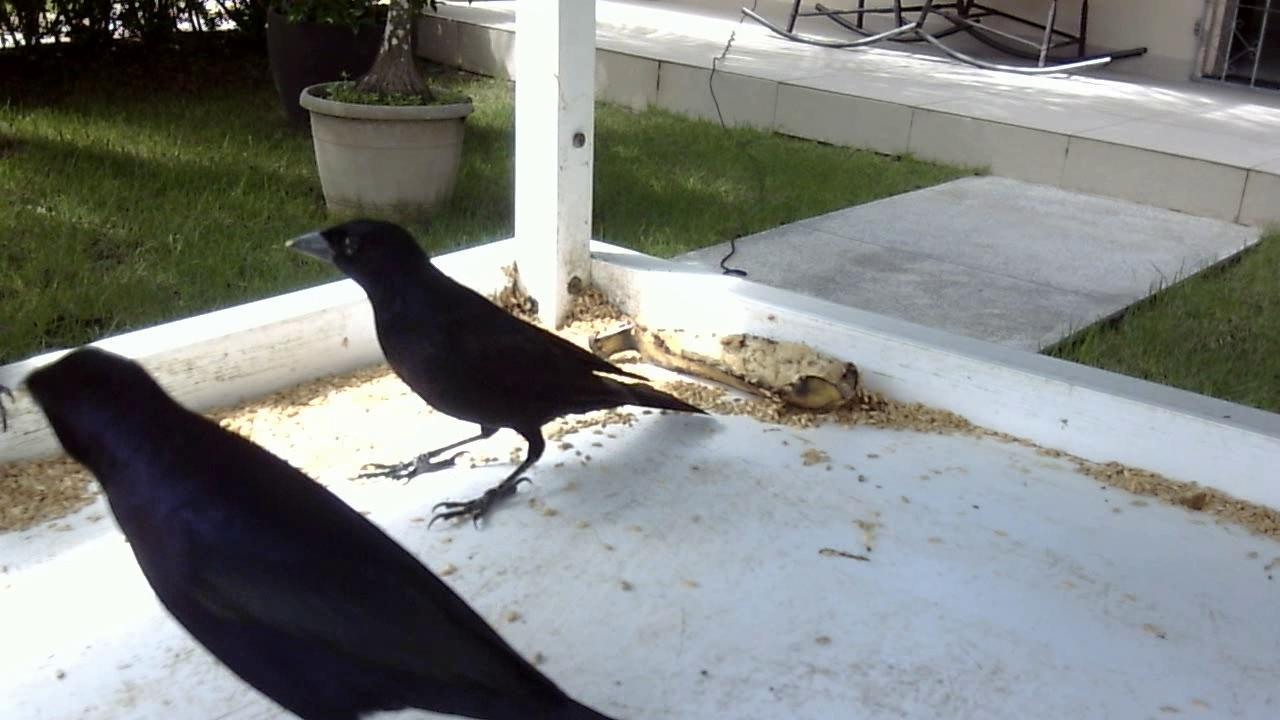chupim: (17, 302, 628, 718), (277, 209, 704, 545)
